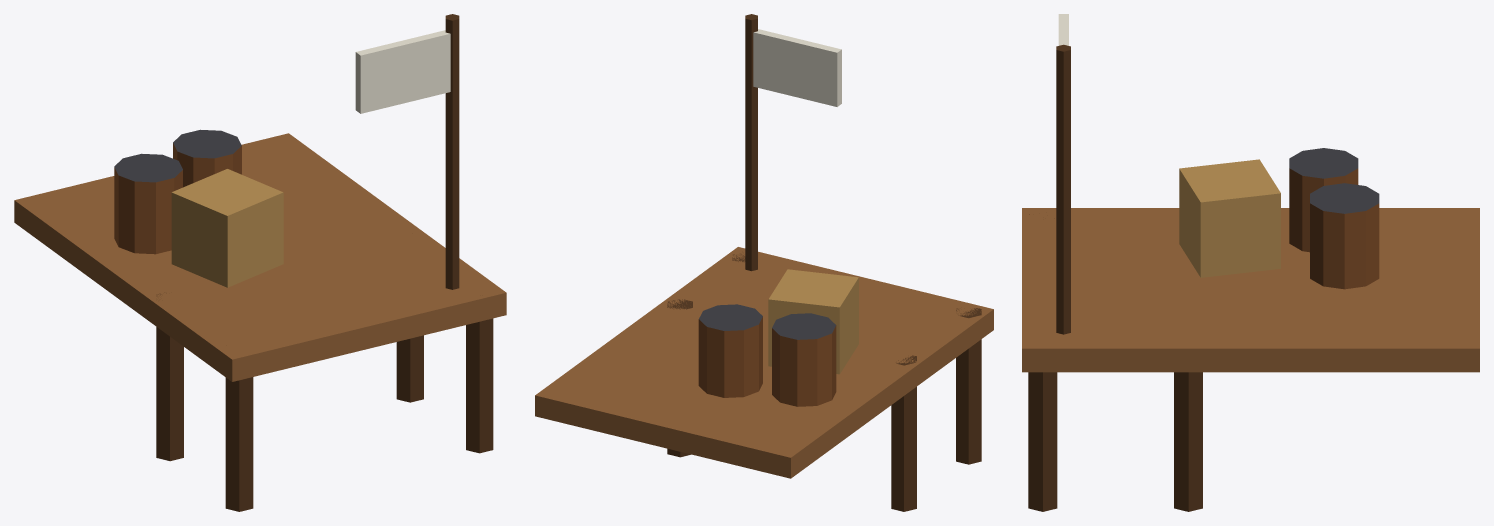
File: general.obj
The picture shows the model from 3 angles, left to right: view 1: azimuth 30°, elevation 25°; view 2: azimuth 150°, elevation 25°; view 3: azimuth 270°, elevation 25°; orthographic projection. The views are drawn at different scales.
Parts seen in each view (by area): view 1: general; view 2: general; view 3: general.
Part boxes in pixels (x1,y1,x2,y2): general: [14, 14, 506, 511]; general: [535, 14, 993, 511]; general: [1022, 14, 1479, 511].
Bounding box in the file's own units: 0.32 × 0.475 × 0.44.
